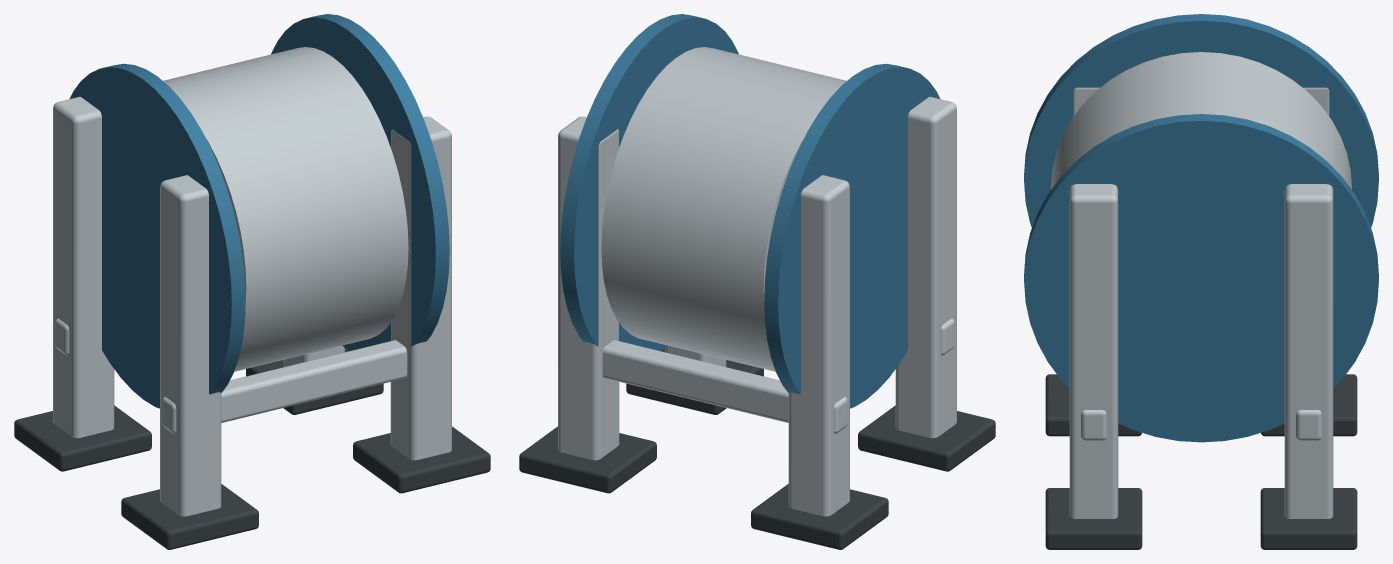
The model's file is desbobinador.glb.
3 views of the same model, side by side, from view 1: azimuth 30°, elevation 25°; view 2: azimuth 150°, elevation 25°; view 3: azimuth 270°, elevation 25° (orthographic).
Visible parts, largest first — view 1: bale-tying-wire-stand; view 2: bale-tying-wire-stand; view 3: bale-tying-wire-stand.
Boxes of the visible parts, x1,y1,x2,y2 form: bale-tying-wire-stand: [14, 14, 490, 549]; bale-tying-wire-stand: [519, 14, 995, 549]; bale-tying-wire-stand: [1024, 14, 1378, 549].
Size of the model in its own units: 0.7 by 0.83 by 0.66.
